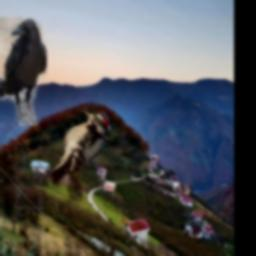Crow: (0, 17, 48, 126)
Woodpecker: (52, 110, 110, 185)
